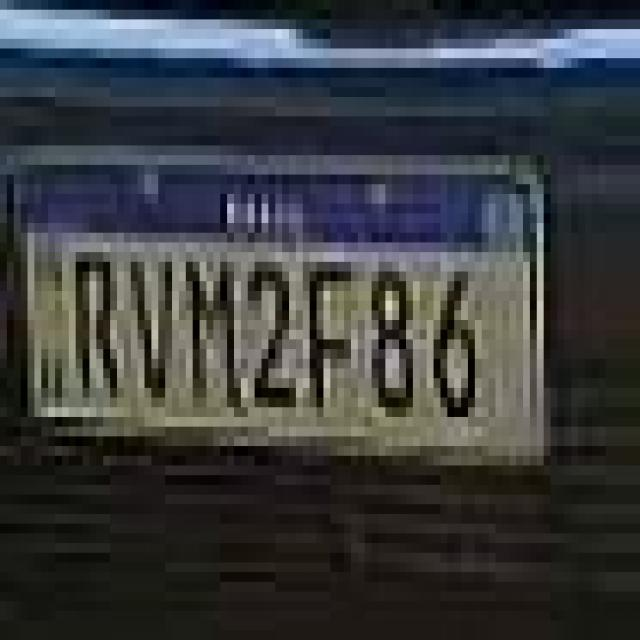6: (429, 254, 484, 419)
8: (367, 252, 420, 422)
F: (305, 247, 354, 422)
M: (184, 247, 248, 413)
R: (65, 236, 120, 408)
V: (130, 250, 177, 412)
